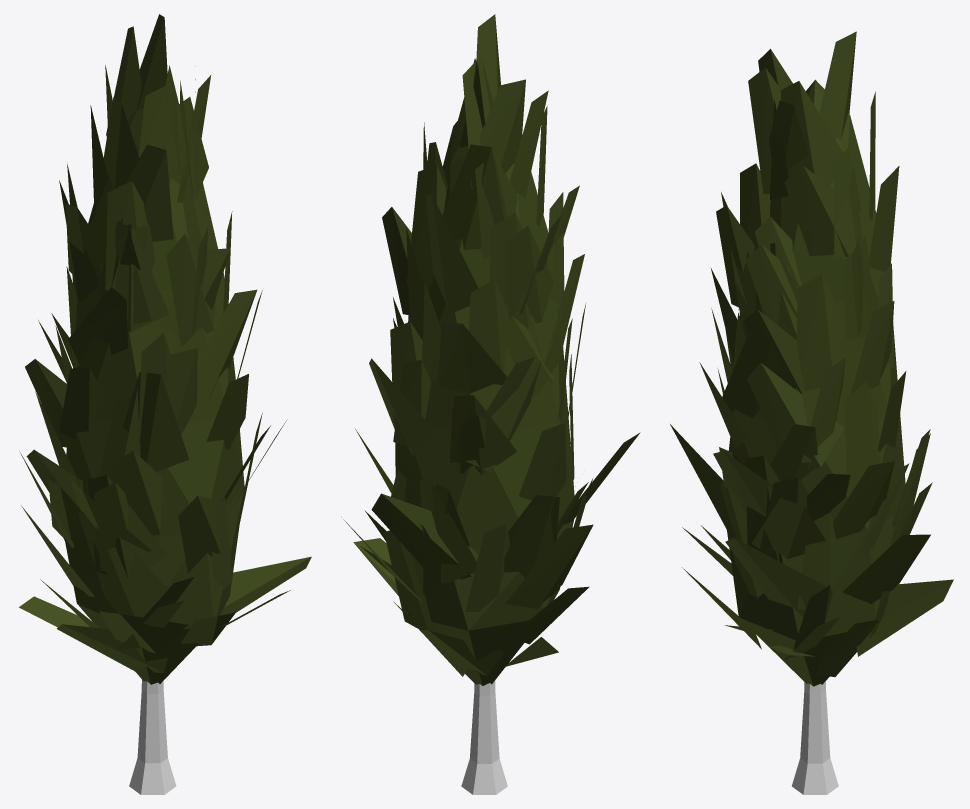
Rendered from tree-cypress-sapling-a.gltf.
3 renders of one model, left to right at view 1: azimuth 30°, elevation 25°; view 2: azimuth 150°, elevation 25°; view 3: azimuth 270°, elevation 25°, orthographic.
Parts seen in each view (by area): view 1: tree-cypress-sapling-a; view 2: tree-cypress-sapling-a; view 3: tree-cypress-sapling-a.
Boxes of the visible parts, <box> form: tree-cypress-sapling-a: <box>19,14,311,794</box>; tree-cypress-sapling-a: <box>341,14,640,794</box>; tree-cypress-sapling-a: <box>670,31,953,794</box>.
Bounding box in the file's own units: 0.00614 × 0.017 × 0.00571.
